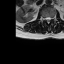CCS_normal: (47, 15, 49, 25)
LFS_stenosis: (51, 16, 53, 21)
LLS_normal: (49, 15, 51, 22)
RFS_normal: (43, 15, 45, 21)
RLS_normal: (45, 15, 47, 22)
